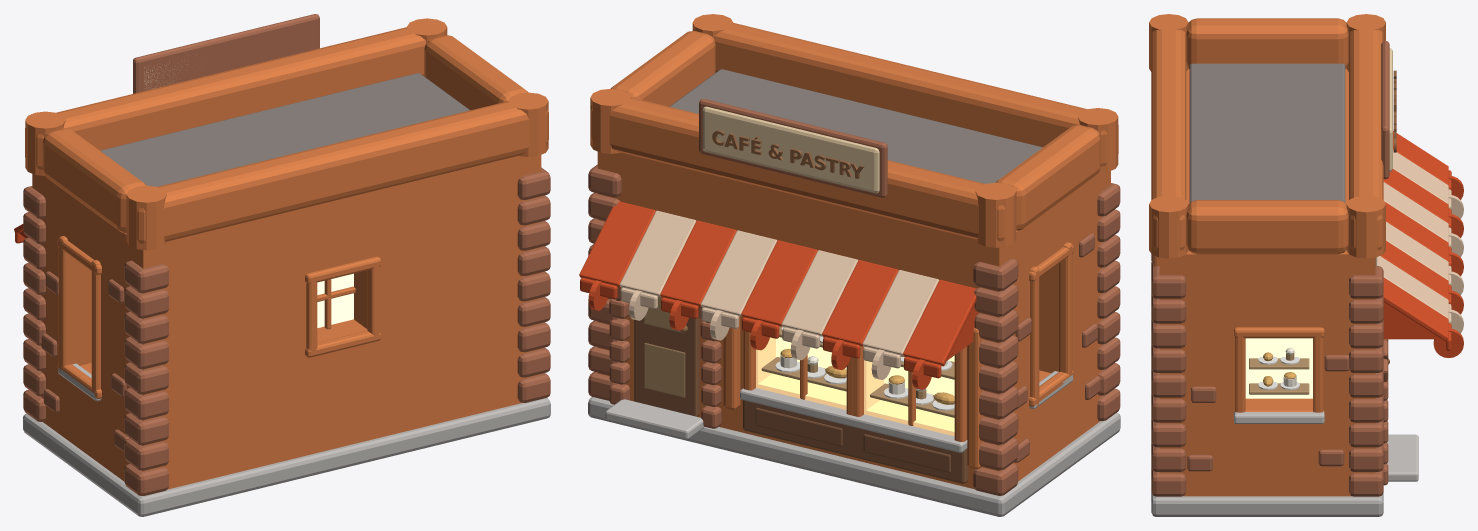
Rendered from 01-cafe-building.glb.
The picture shows the model from 3 angles, left to right: view 1: azimuth 30°, elevation 25°; view 2: azimuth 150°, elevation 25°; view 3: azimuth 270°, elevation 25°; orthographic projection. The views are drawn at different scales.
Parts seen in each view (by area): view 1: Walls, ParapetB, ParapetF, Deck, Slab, SignBorder, ParapetL, ParapetR, ParapetCorner, LWinFrame.001, ParapetCorner.002, LWinFrame (+25 smaller); view 2: Walls, ParapetB, ParapetF, Deck, Slab, SignPlaque, ParapetL, ParapetR, Door, AwningS0, AwningS5, AwningS4 (+42 smaller); view 3: Walls, Deck, ParapetR, ParapetL, ParapetB, ParapetF, Slab, RWinBack, ParapetCorner.002, ParapetCorner.003, AwningS8, DoorStep (+42 smaller).
Boxes of the visible parts, x1,y1,x2,y2 form: Walls: (32, 155, 541, 489); ParapetB: (137, 97, 548, 243); ParapetF: (25, 23, 446, 169); Deck: (100, 73, 469, 186); Slab: (23, 398, 550, 516); SignBorder: (133, 14, 319, 93); ParapetL: (42, 128, 146, 233); ParapetR: (424, 35, 528, 110); ParapetCorner: (126, 185, 166, 250); LWinFrame.001: (58, 236, 71, 372); ParapetCorner.002: (508, 92, 548, 156); LWinFrame: (91, 260, 100, 392); Walls: (597, 152, 1110, 488); ParapetB: (693, 19, 1118, 166); ParapetF: (590, 93, 1016, 241); Deck: (669, 69, 1042, 183); Slab: (588, 397, 1120, 516); SignPlaque: (702, 106, 879, 193); ParapetL: (996, 125, 1100, 230); ParapetR: (611, 31, 715, 106); Door: (634, 317, 699, 416); AwningS0: (903, 279, 976, 366); AwningS5: (700, 230, 777, 316); AwningS4: (741, 240, 817, 326); Walls: (1159, 68, 1375, 496); Deck: (1189, 63, 1345, 202); ParapetR: (1186, 200, 1348, 254); ParapetL: (1186, 18, 1348, 68); ParapetB: (1151, 19, 1186, 250); ParapetF: (1349, 19, 1383, 250); Slab: (1151, 319, 1383, 516); RWinBack: (1245, 338, 1312, 398); ParapetCorner.002: (1149, 195, 1188, 258); ParapetCorner.003: (1346, 195, 1385, 258); AwningS8: (1383, 277, 1448, 341); DoorStep: (1387, 434, 1418, 481).
Bounding box in the file's own units: 4.06 × 3.2 × 2.71.
